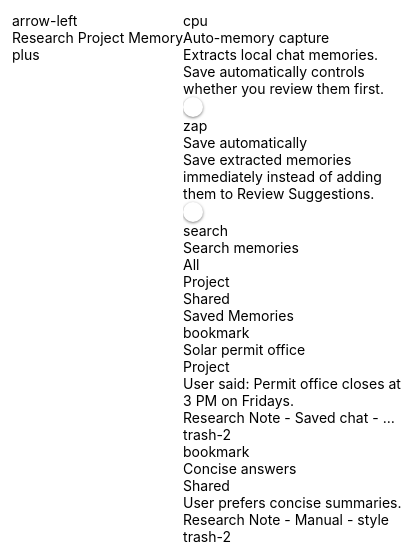
Scenario: MemoryScreen › filters memories by search text
This screenshot has width=414, height=559.
In the field with test id "memory-search-input": (292, 248) [183, 239, 402, 256], type "concise"
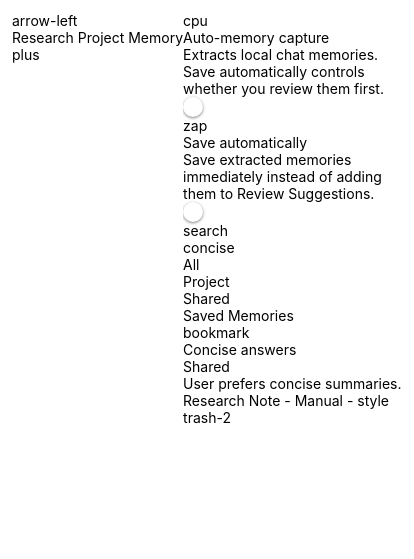
Expected: the text "Concise answers" is shown, [183, 341, 296, 358]
Now the text "Solar permit office" is gone
